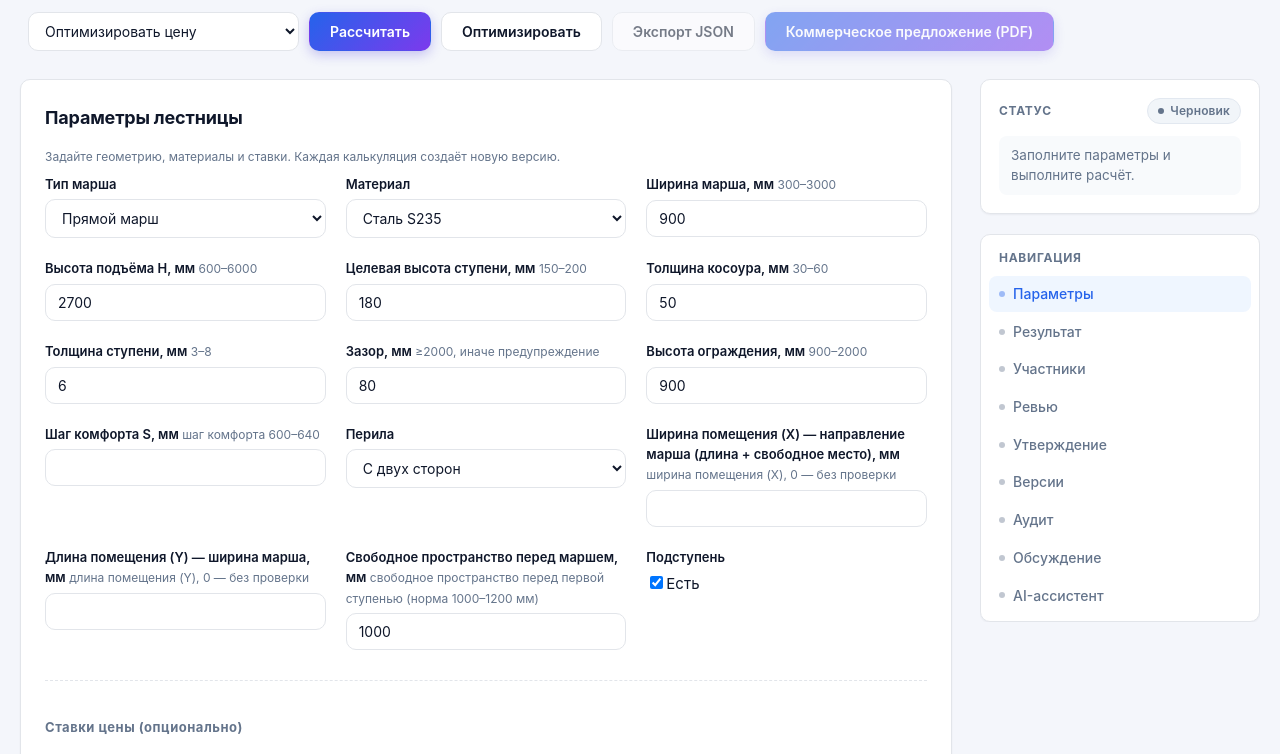
Test: ProjectDetail › блокирует расчёт при жёстких ошибках валидации
Clear the number field labelled "Ширина марша, мм 300–3000" at (787, 218), box [646,200,927,237]
(page scrolled)
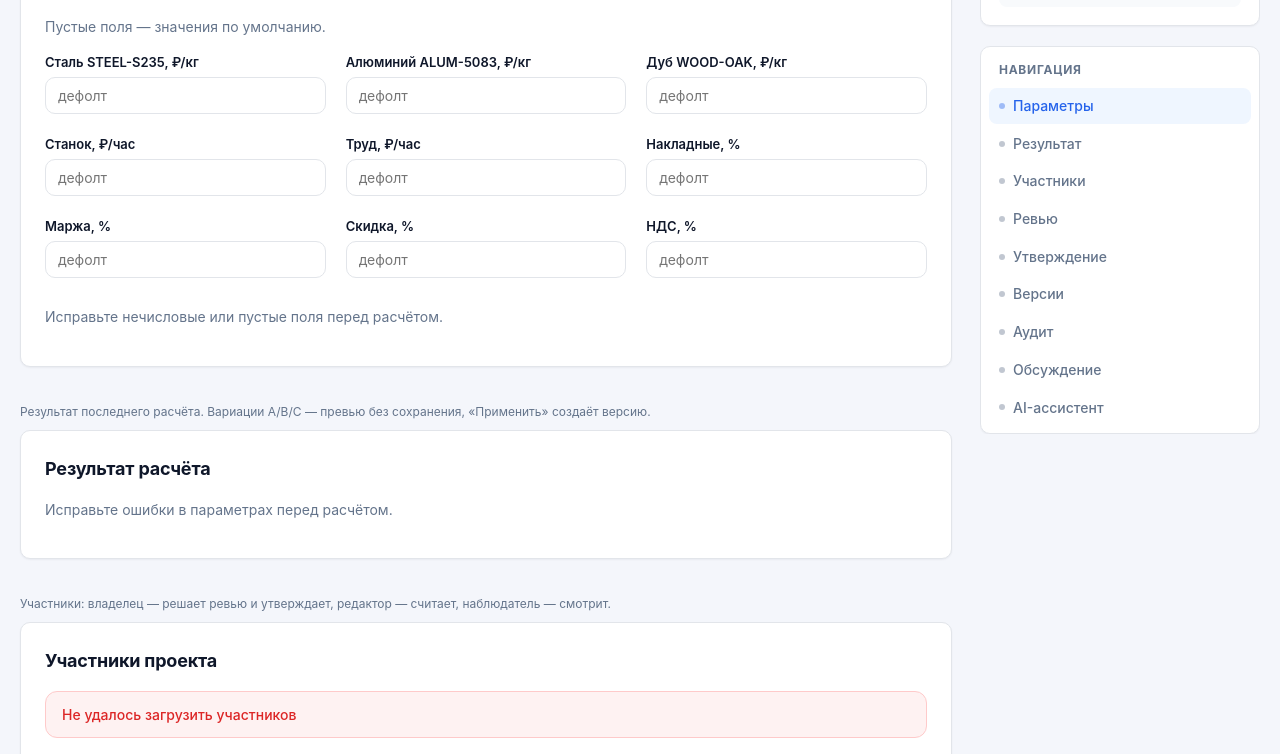
Expected: the text "Исправьте нечисловые или пустые поля перед расчётом." is shown, [45,308,443,326]
